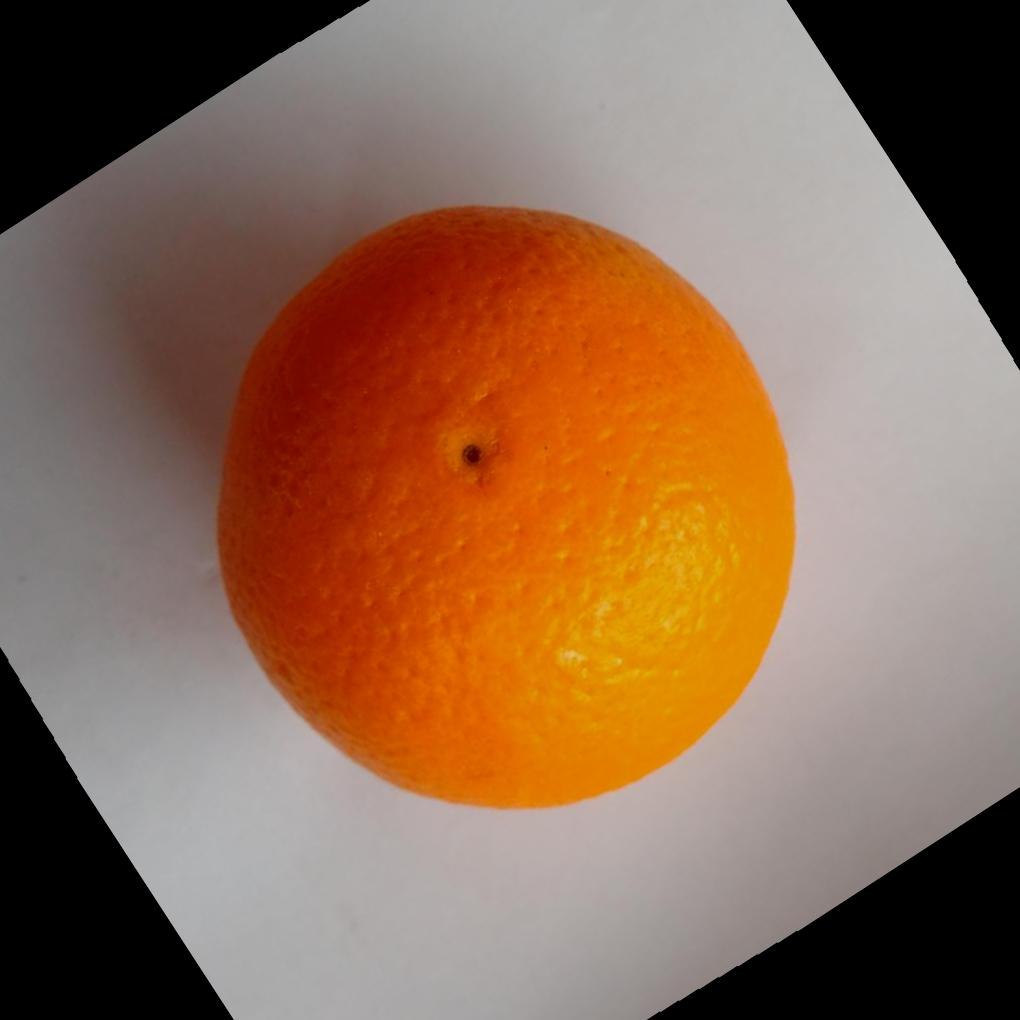FreshGuava: (211, 199, 795, 808)
